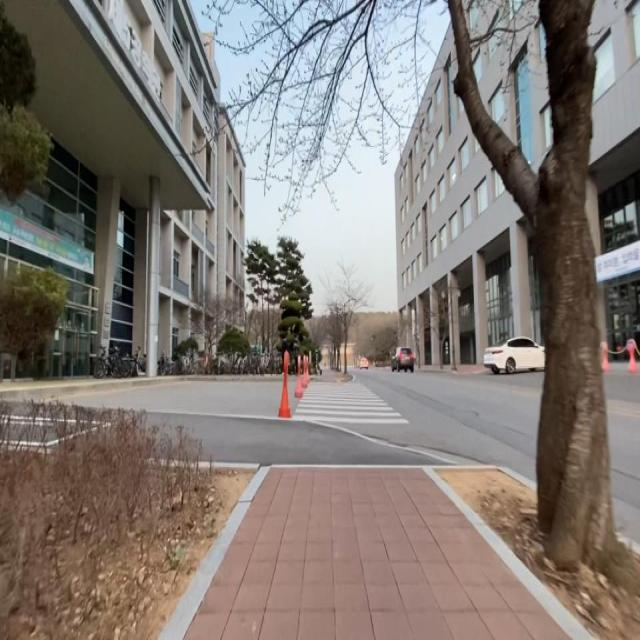sidewalk: (143, 412, 574, 640), (310, 369, 353, 384)
